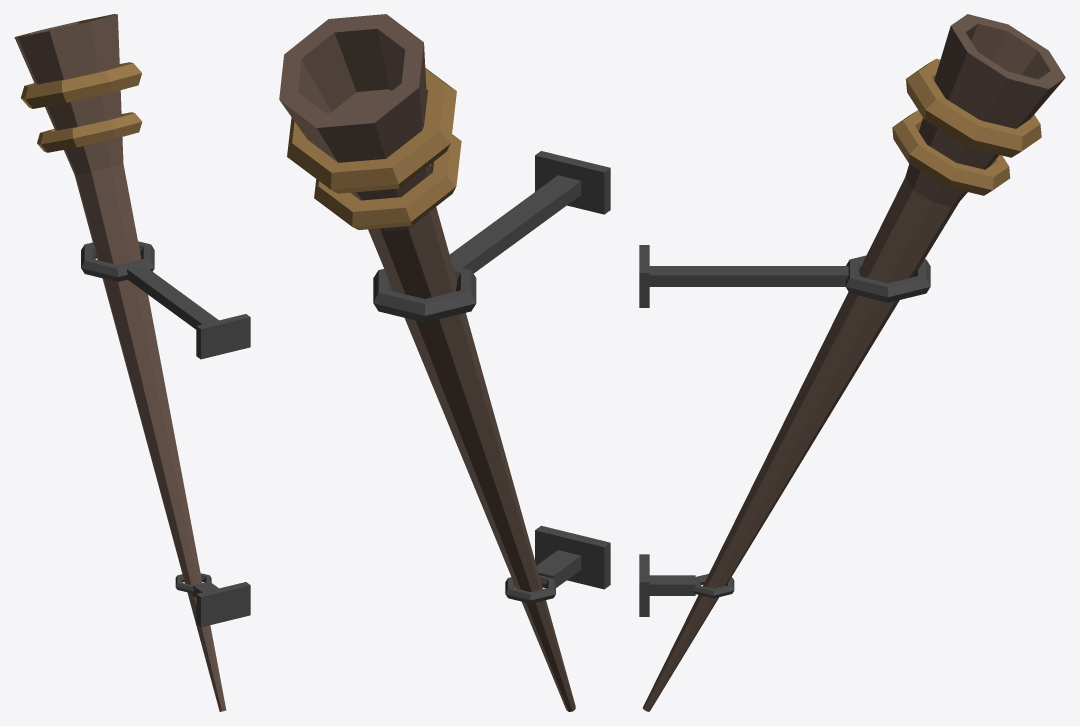
File: Torch.fbx
3 views of the same model, side by side, from view 1: azimuth 30°, elevation 25°; view 2: azimuth 150°, elevation 25°; view 3: azimuth 270°, elevation 25° (orthographic). The views are drawn at different scales.
Visible parts, largest first — view 1: Torch; view 2: Torch; view 3: Torch.
Part boxes in pixels (x1,y1,x2,y2): Torch: (14, 14, 250, 711); Torch: (279, 14, 610, 711); Torch: (639, 14, 1065, 711).
Bounding box in the file's own units: 234 × 1177 × 664.
